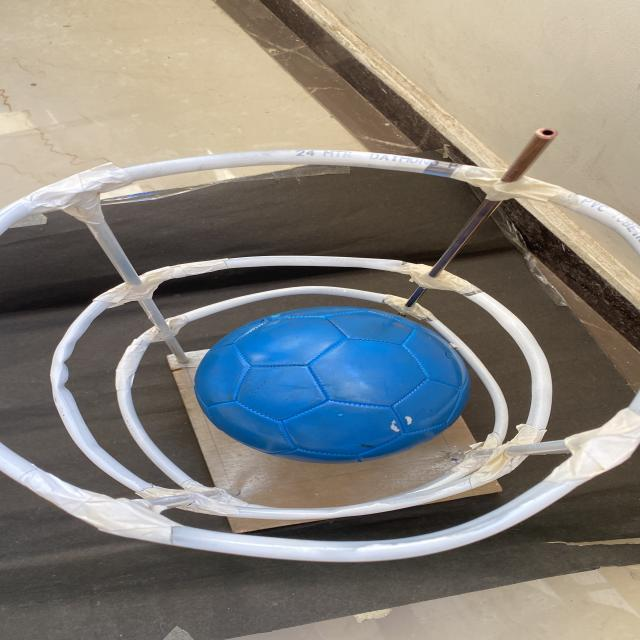blue_ball: (204, 305, 476, 460)
silo: (0, 132, 640, 570)
